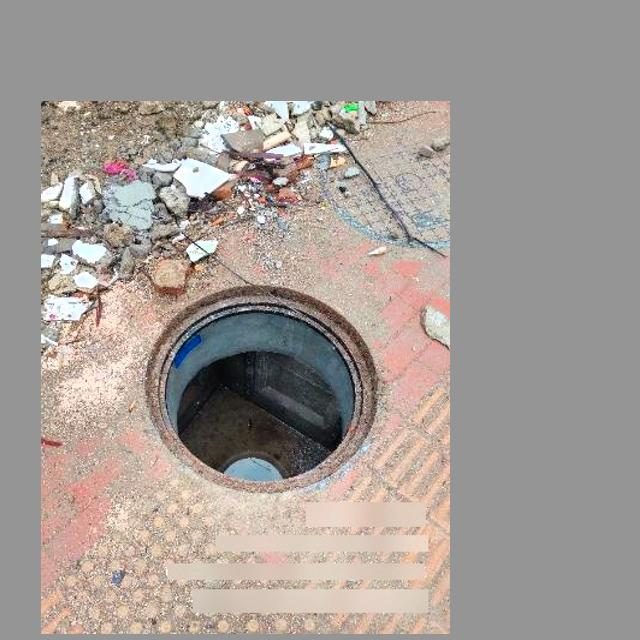lose: (147, 284, 377, 492)
